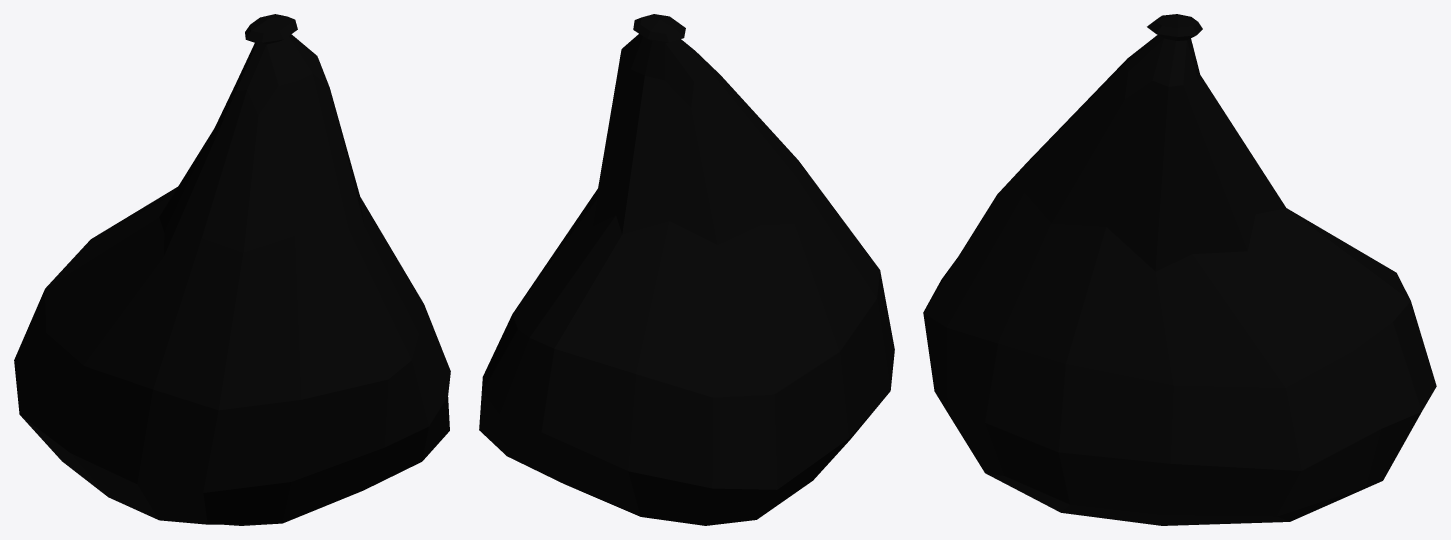
File: sacPoubelle3.fbx
The picture shows the model from 3 angles, left to right: view 1: azimuth 30°, elevation 25°; view 2: azimuth 150°, elevation 25°; view 3: azimuth 270°, elevation 25°; orthographic projection. The views are drawn at different scales.
Visible parts, largest first — view 1: Cube.019; view 2: Cube.019; view 3: Cube.019.
Part boxes in pixels (left/top/right/bottom): Cube.019: left=14, top=14, right=450, bottom=525; Cube.019: left=479, top=14, right=894, bottom=525; Cube.019: left=923, top=14, right=1436, bottom=525.
Bounding box in the file's own units: 356 × 464 × 439.
1 material, 1 textured.
